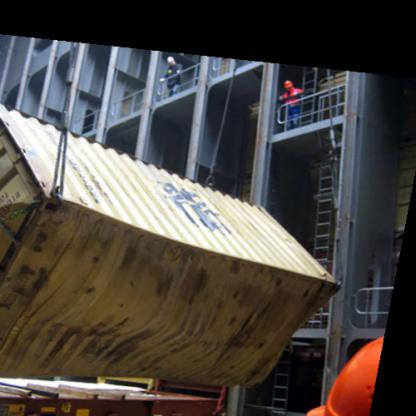Damage: (79, 226, 225, 296), (36, 307, 183, 366), (234, 266, 308, 338)
